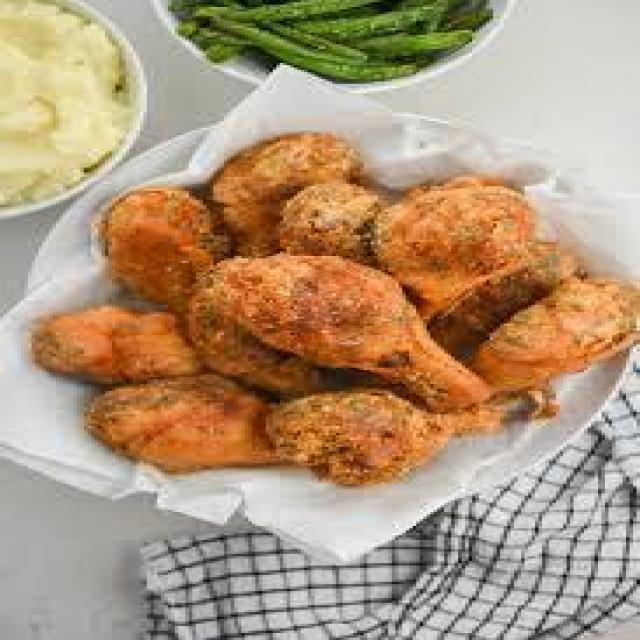Chicken -Fried Chicken-: (66, 155, 617, 472)
